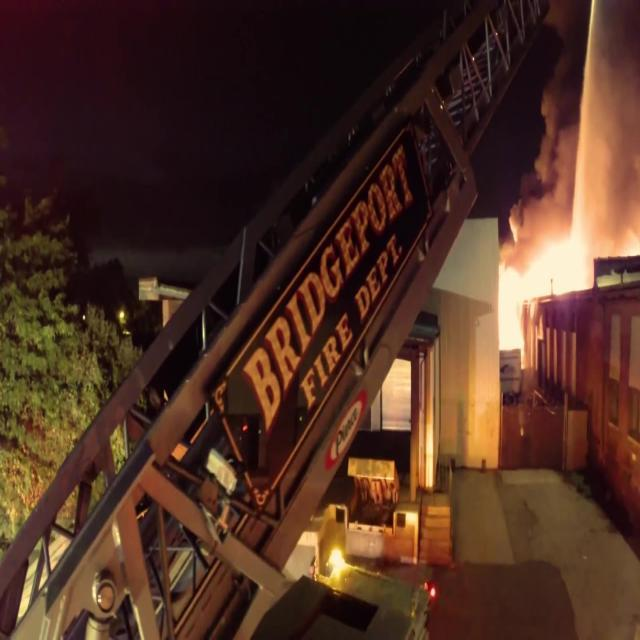Fire: (500, 232, 592, 358)
Smoke: (506, 0, 588, 235)
